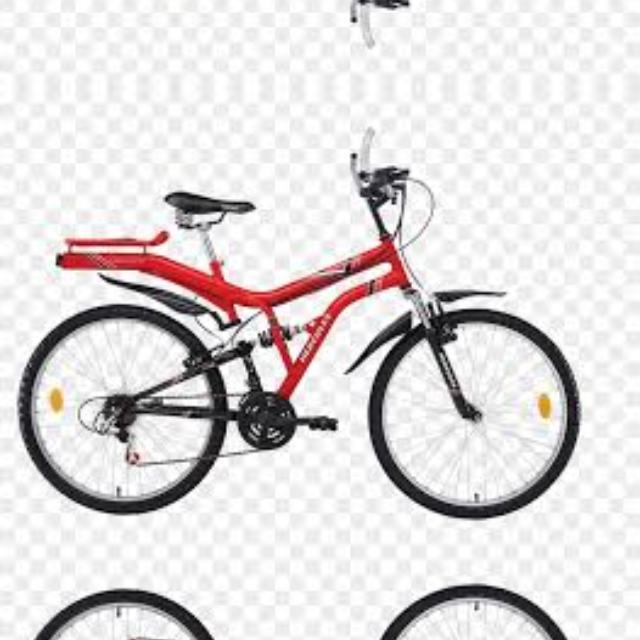obstacle: (18, 117, 596, 549), (17, 555, 596, 640), (17, 0, 596, 57)
